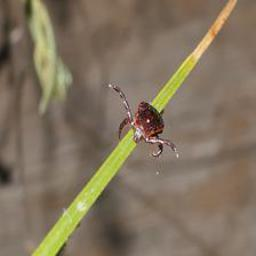Rhipicephalus sanguineus: (108, 86, 179, 158)
